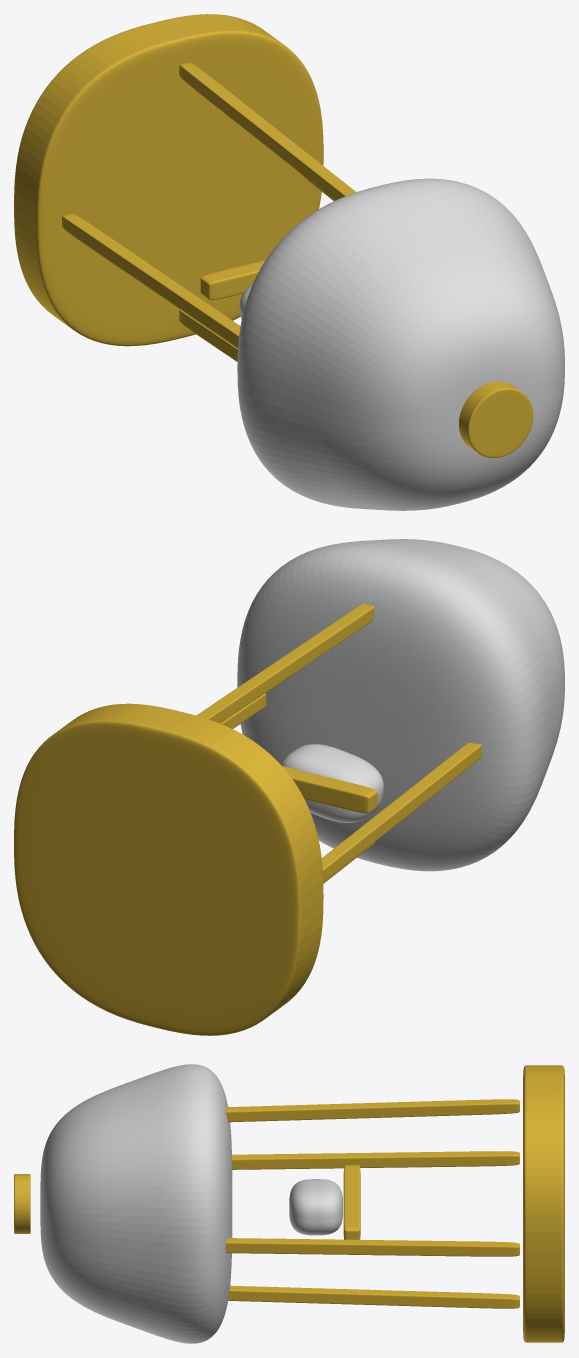
File: art_deco_birdcage_sq.glb
The picture shows the model from 3 angles, top to bottom: view 1: azimuth 30°, elevation 25°; view 2: azimuth 150°, elevation 25°; view 3: azimuth 270°, elevation 25°; orthographic projection. The views are drawn at different scales.
Visible parts, largest first — view 1: superquadric_1, superquadric_0, superquadric_8, superquadric_4, superquadric_3, superquadric_6, superquadric_2; view 2: superquadric_0, superquadric_1, superquadric_4, superquadric_3, superquadric_7, superquadric_6; view 3: superquadric_1, superquadric_0, superquadric_5, superquadric_3, superquadric_2, superquadric_4, superquadric_7, superquadric_6, superquadric_8.
Boxes of the visible parts, x1=… form: superquadric_1: x1=237, y1=178, x2=564, y2=510; superquadric_0: x1=14, y1=14, x2=323, y2=346; superquadric_8: x1=459, y1=381, x2=533, y2=458; superquadric_4: x1=62, y1=213, x2=240, y2=348; superquadric_3: x1=179, y1=62, x2=356, y2=200; superquadric_6: x1=200, y1=260, x2=265, y2=299; superquadric_2: x1=179, y1=309, x2=237, y2=361; superquadric_0: x1=14, y1=703, x2=323, y2=1035; superquadric_1: x1=237, y1=539, x2=564, y2=871; superquadric_4: x1=321, y1=742, x2=481, y2=881; superquadric_3: x1=196, y1=603, x2=374, y2=723; superquadric_7: x1=281, y1=744, x2=383, y2=822; superquadric_6: x1=282, y1=766, x2=377, y2=813; superquadric_1: x1=40, y1=1064, x2=232, y2=1343; superquadric_0: x1=523, y1=1065, x2=564, y2=1342; superquadric_5: x1=225, y1=1238, x2=519, y2=1256; superquadric_3: x1=225, y1=1099, x2=519, y2=1122; superquadric_2: x1=228, y1=1285, x2=519, y2=1308; superquadric_4: x1=232, y1=1151, x2=519, y2=1169; superquadric_7: x1=289, y1=1179, x2=342, y2=1235; superquadric_6: x1=343, y1=1165, x2=360, y2=1239; superquadric_8: x1=14, y1=1174, x2=30, y2=1233.
Size of the model in its own units: 0.4888 by 0.4889 by 1.
